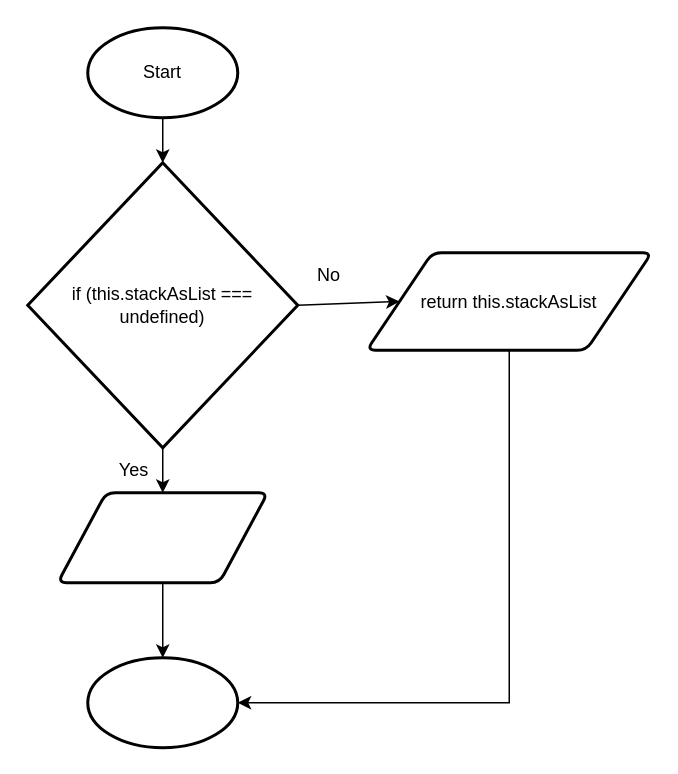
This 678x774 diagram has some shape labels left out. The box of each missing label's shape, as (x1, y1, x2, y2) in pixels:
return "nothing": (56, 490, 268, 584)
Stop: (86, 656, 238, 748)
